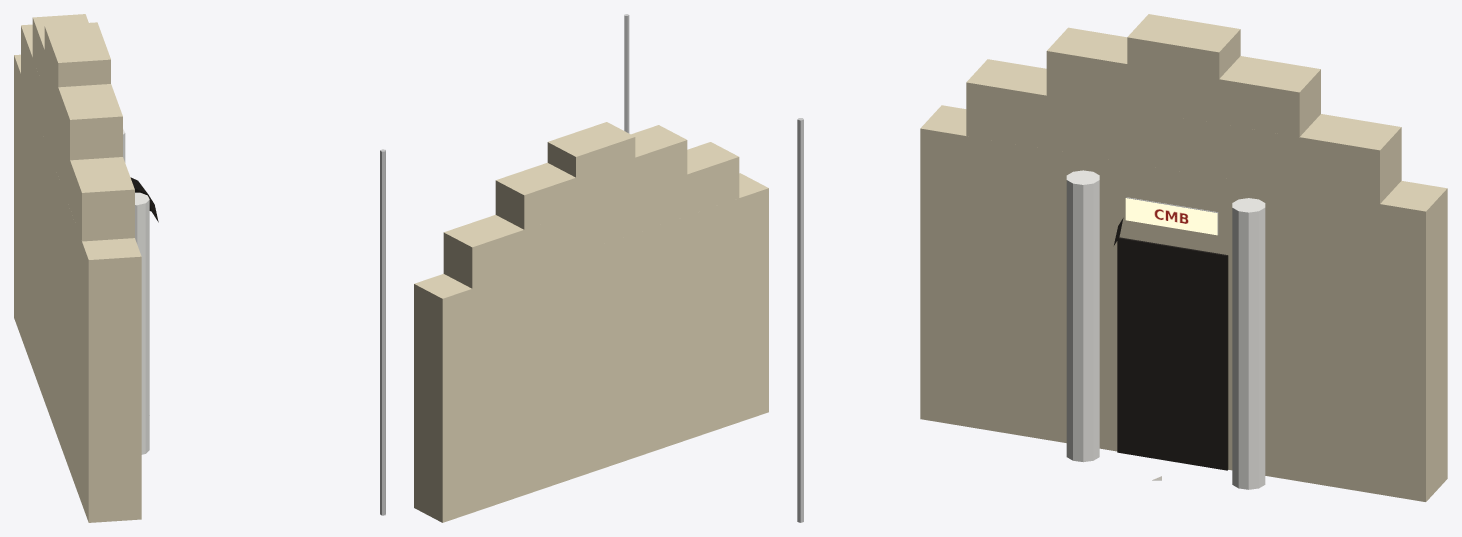
The model's file is cmb_noord.glb.
3 views of the same model, side by side, from view 1: azimuth 30°, elevation 25°; view 2: azimuth 150°, elevation 25°; view 3: azimuth 270°, elevation 25° (orthographic). The views are drawn at different scales.
Parts seen in each view (by area): view 1: cmb_noord_lod0; view 2: cmb_noord_lod0; view 3: cmb_noord_lod0.
Part boxes in pixels (x1,y1,x2,y2): cmb_noord_lod0: [14, 14, 385, 522]; cmb_noord_lod0: [414, 14, 768, 522]; cmb_noord_lod0: [797, 14, 1447, 522].
Size of what is drawn, in the model's own units: 6.04 by 9.33 by 13.18.
Materials: 7 (1 with a texture image).
